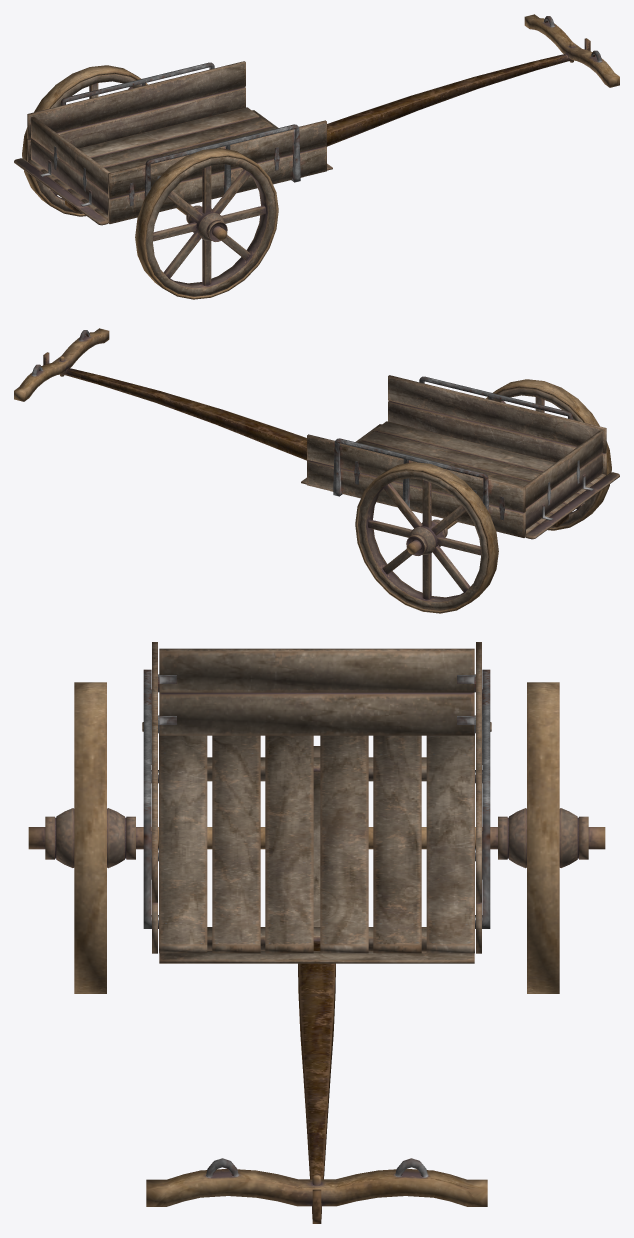
The model's file is handcart.glb.
3 views of the same model, one above another, from view 1: azimuth 30°, elevation 25°; view 2: azimuth 150°, elevation 25°; view 3: azimuth 270°, elevation 25° (orthographic). The views are drawn at different scales.
Parts seen in each view (by area): view 1: handcart; view 2: handcart; view 3: handcart.
Boxes of the visible parts, x1=… form: handcart: x1=14, y1=14, x2=619, y2=299; handcart: x1=14, y1=328, x2=619, y2=613; handcart: x1=28, y1=642, x2=605, y2=1223.
Bounding box in the file's own units: 1 × 0.2543 × 0.4682.
Materials: 1 (1 with a texture image).
